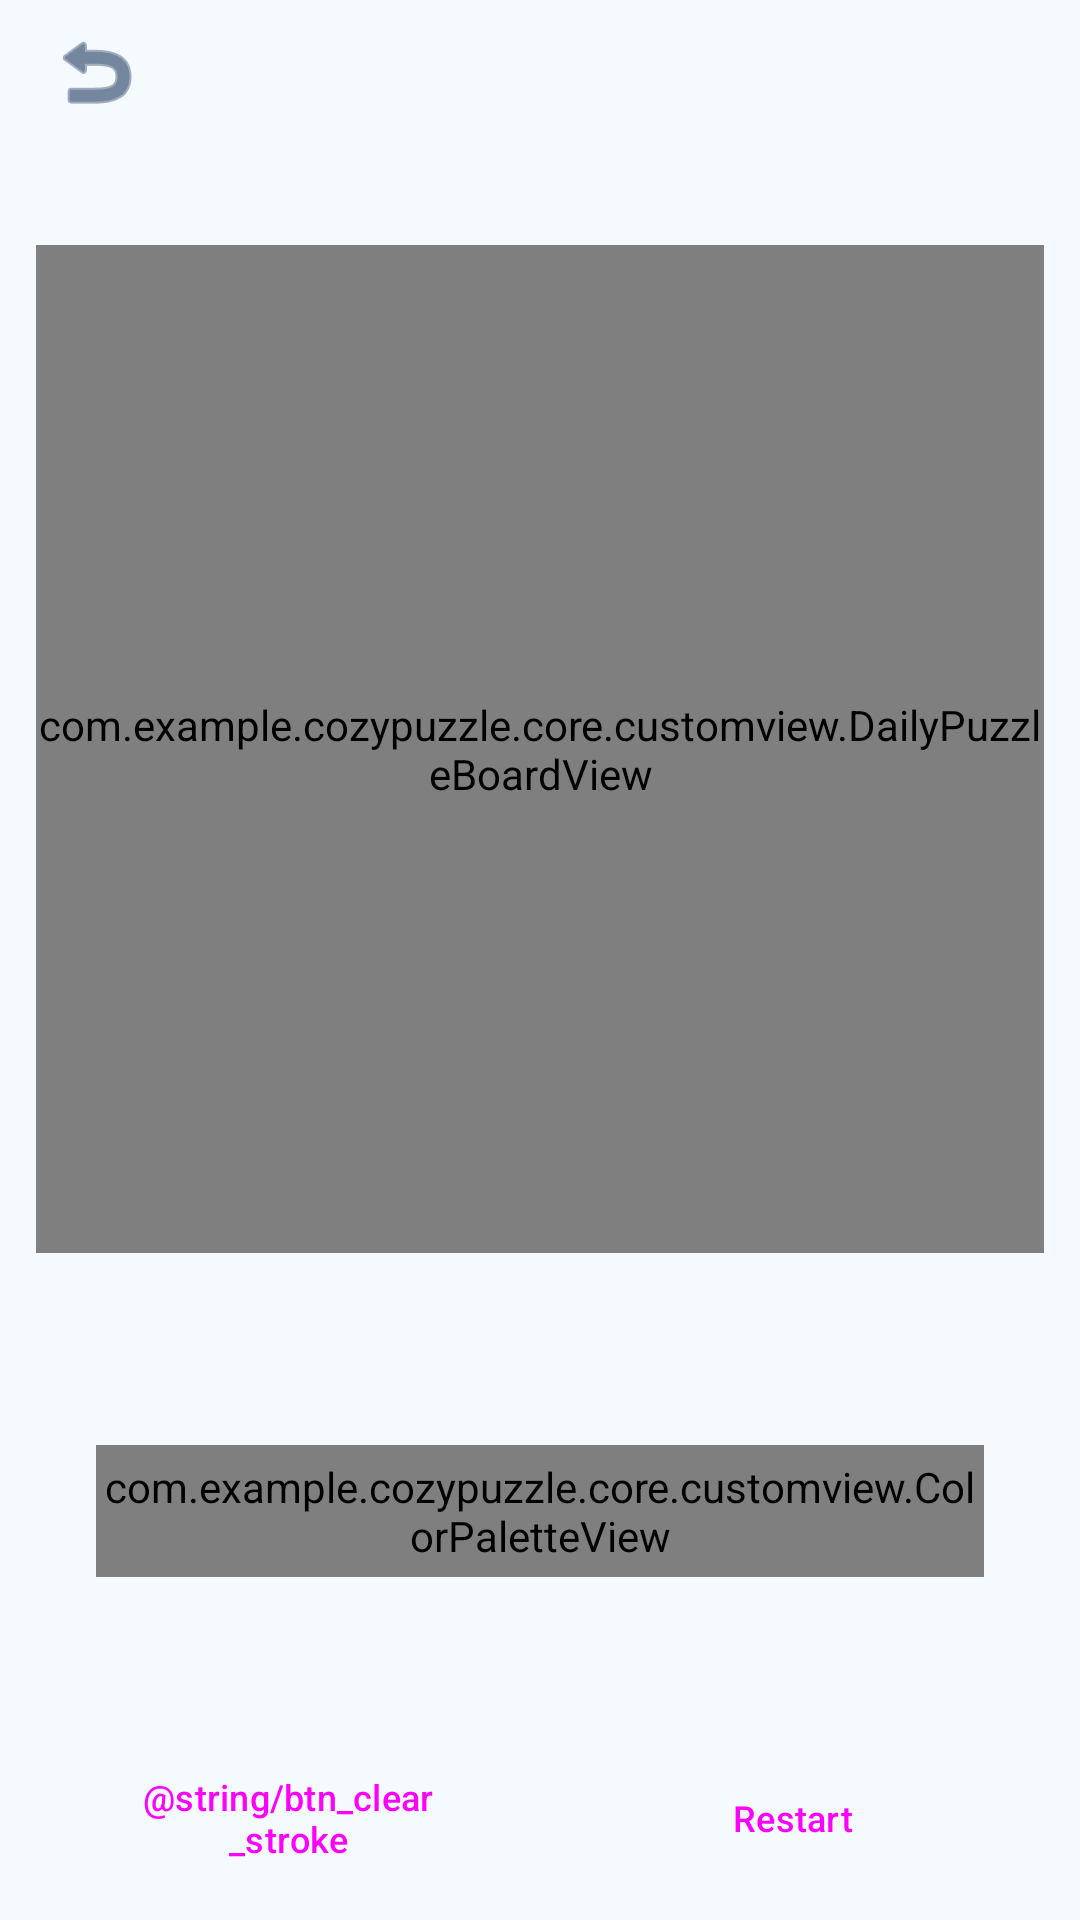

Named icons in this screenshot (1080 x 1920) and their bounding boxes, (x1, y1, x2, y2):
Back: (63, 41, 132, 104)
